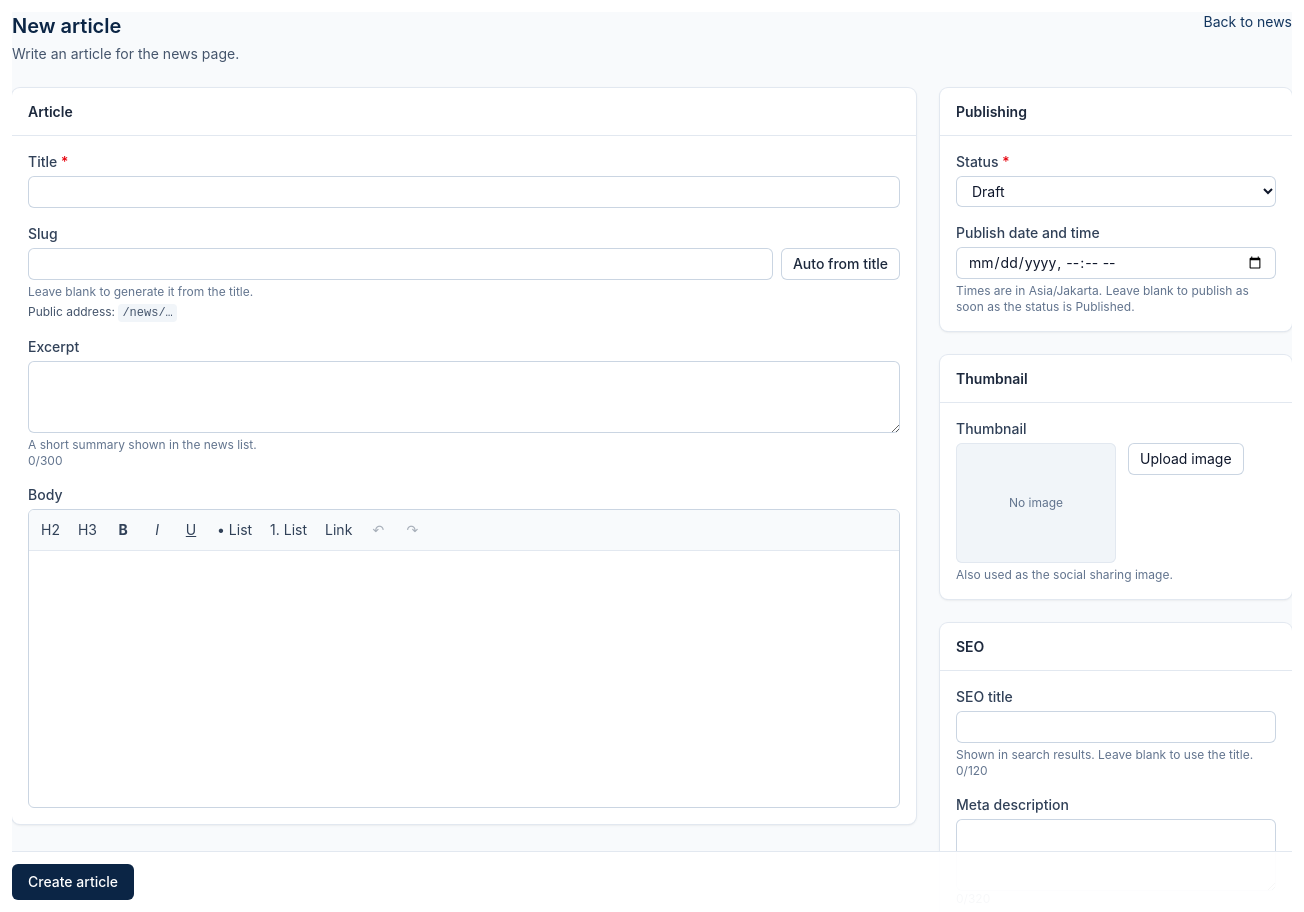
it: NewsFormPage › previews the news address from the title
Type "Port Update" into the field labelled "Title *".
click(464, 192); type("Port Update")  # box [28,176,900,208]
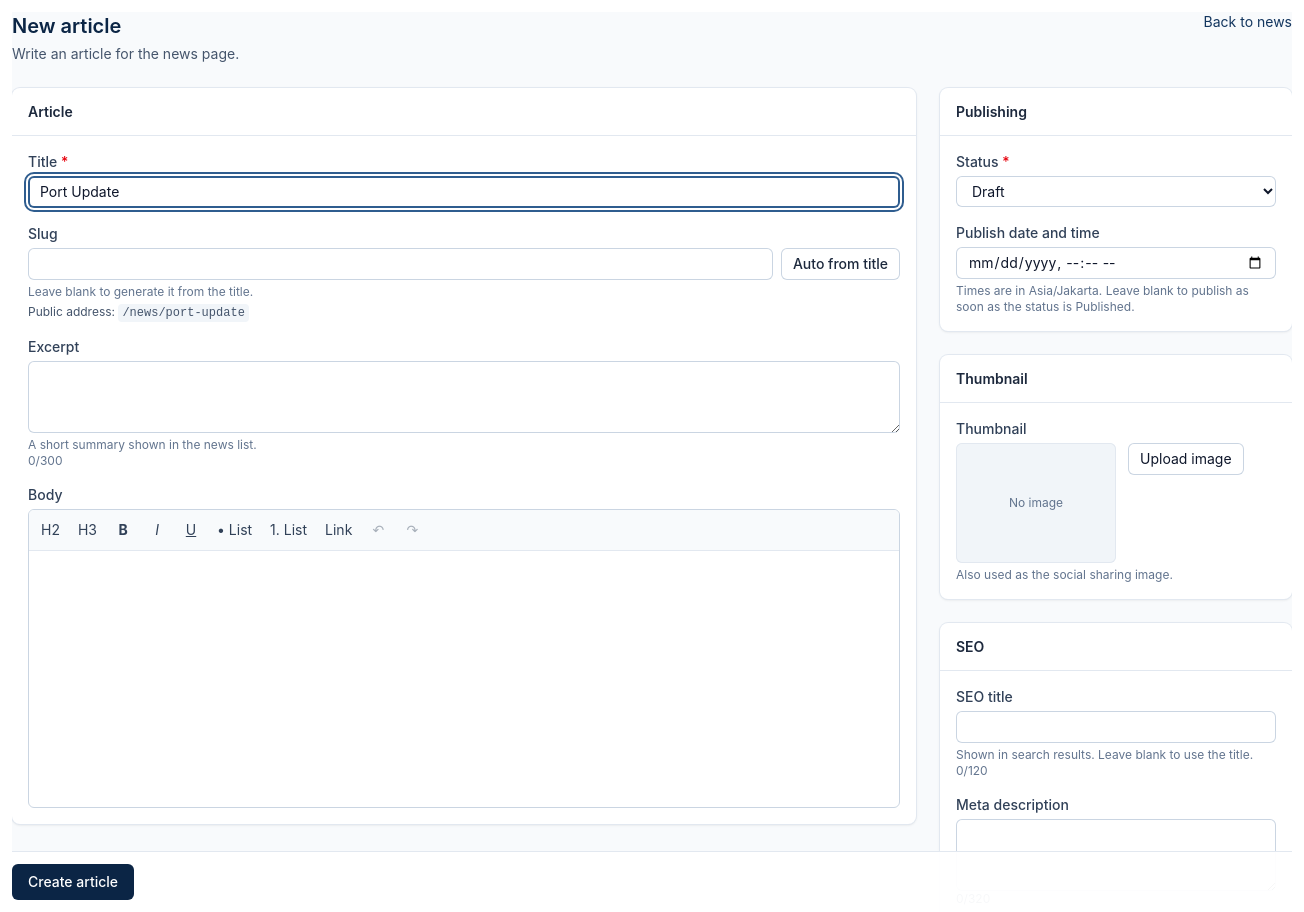
Result: the text with test id "slug-preview" reads "/news/port-update" at [122,306,245,320]
